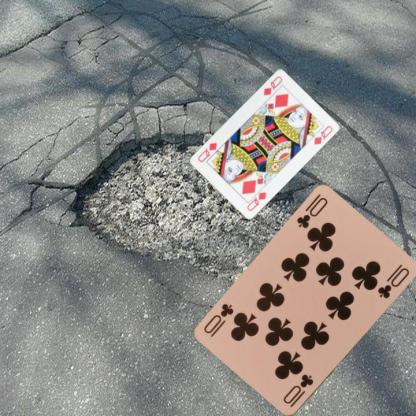10c: (280, 372, 315, 409), (294, 194, 329, 230)
Qd: (245, 184, 268, 212), (260, 74, 284, 96)
